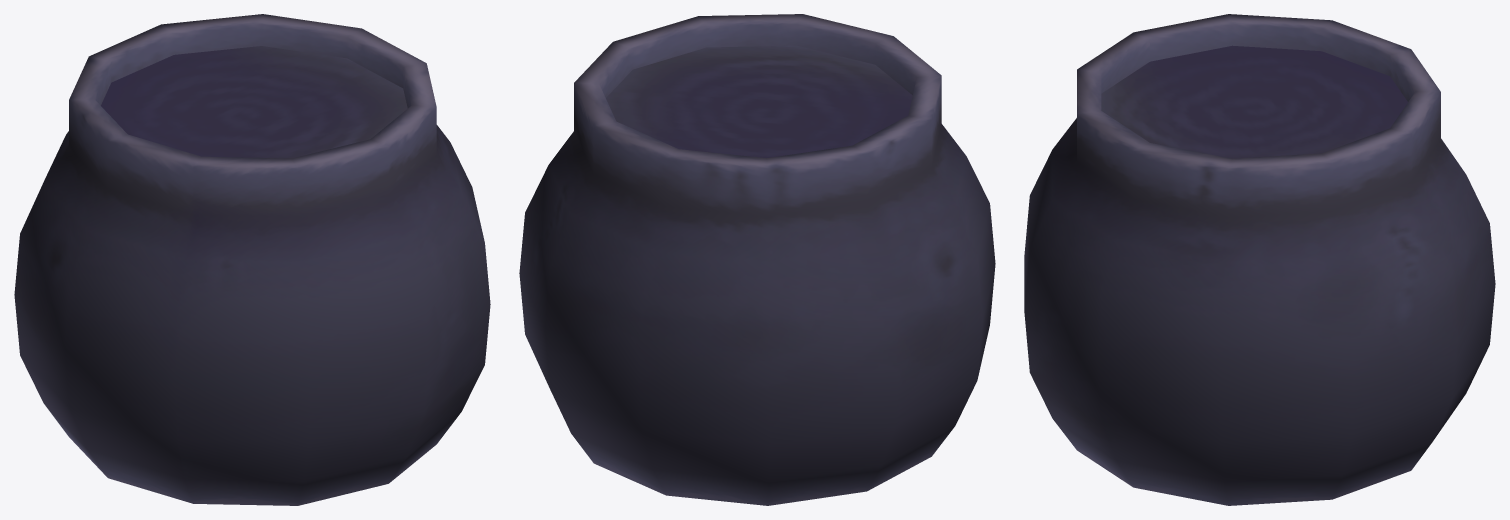
Rendered from pot.fbx.
3 renders of one model, left to right at view 1: azimuth 30°, elevation 25°; view 2: azimuth 150°, elevation 25°; view 3: azimuth 270°, elevation 25°, orthographic.
Visible parts, largest first — view 1: pot-low; view 2: pot-low; view 3: pot-low.
Boxes of the visible parts, bbox=[...] form: pot-low: bbox=[14, 14, 490, 505]; pot-low: bbox=[519, 14, 995, 505]; pot-low: bbox=[1024, 14, 1495, 505].
Bounding box in the file's own units: 2005 × 1565 × 1985.
1 material, 1 textured.
